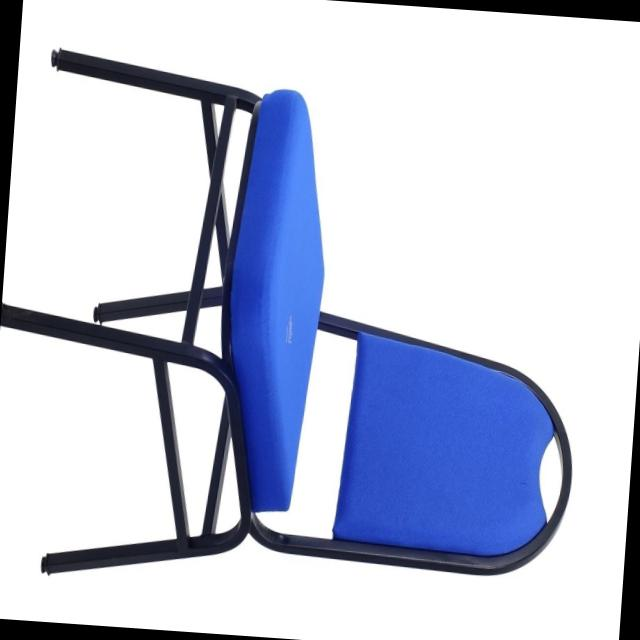Chair: (0, 23, 602, 614)
